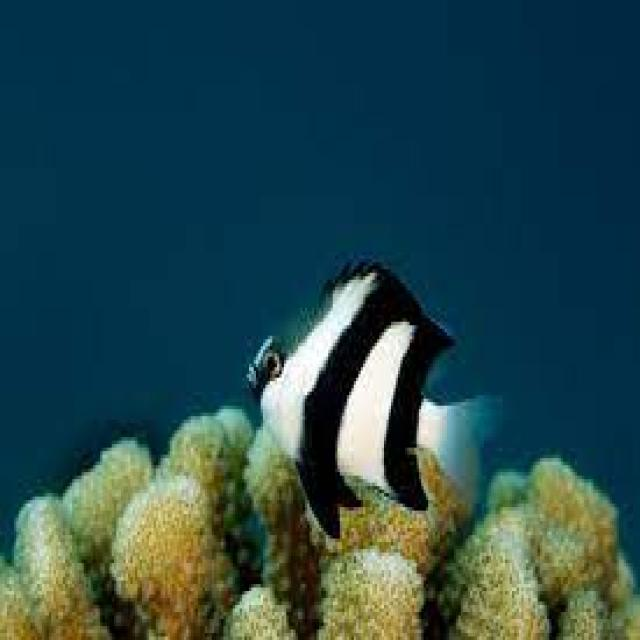Three_striped DasmselFish: (248, 259, 508, 550)
